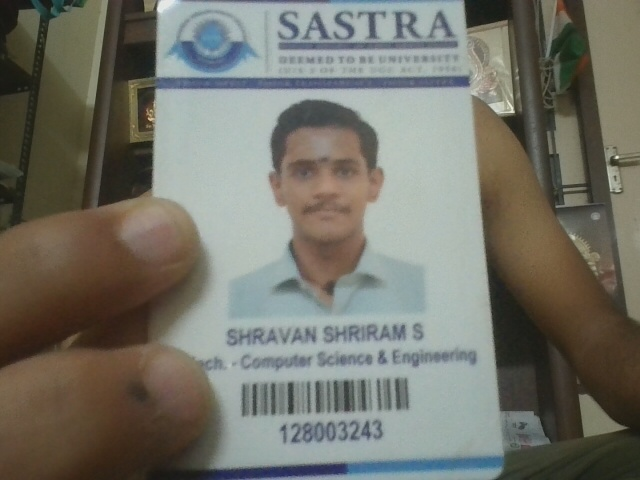fake: (268, 125, 381, 238)
